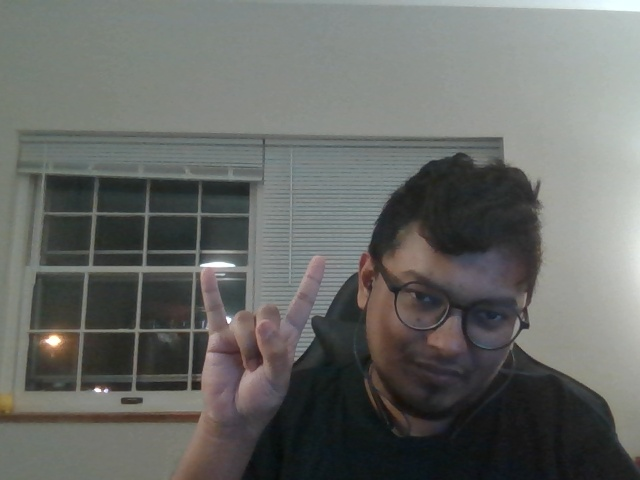ilikeyou: (173, 242, 338, 432)
